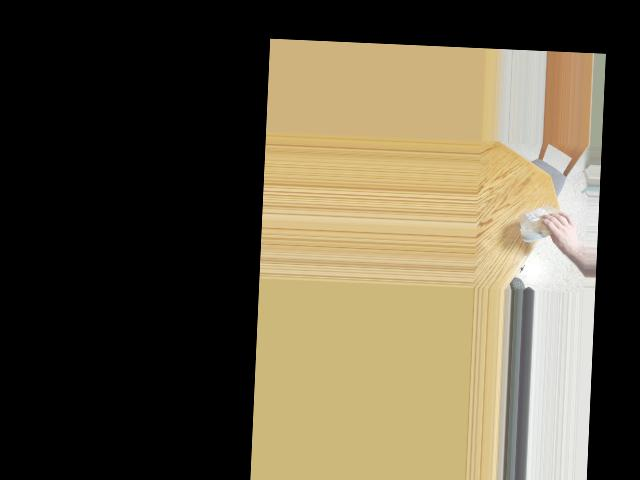cheese: (523, 207, 560, 238)
